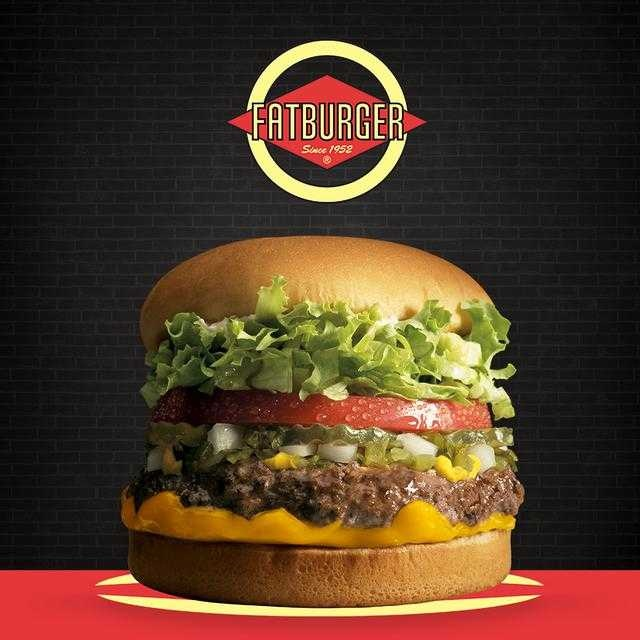hamburger: (111, 238, 545, 595)
